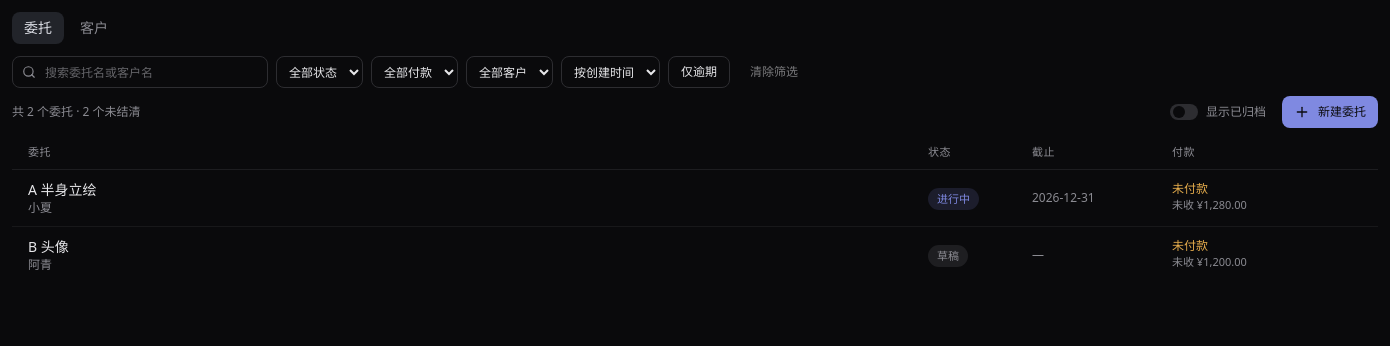
Test: 委托筛选与计数 › 客户筛选包含归档范围内被引用的归档客户，并带标注
The width and height of the screenshot is (1390, 346).
Expected: the text "A 半身立绘" is shown, [28,180,97,200]
Click the switch.
click(1184, 112)  # box [1170,104,1198,120]
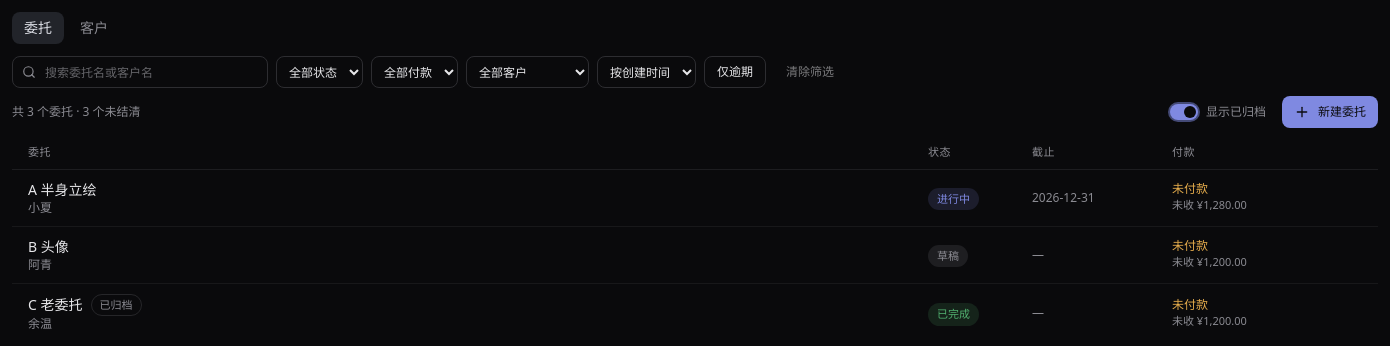
Expected: the text "C 老委托" is shown, [28,295,82,315]
Select "余温（已归档）" in the dropdown named "客户筛选" at (528,72), box [466,56,589,88]
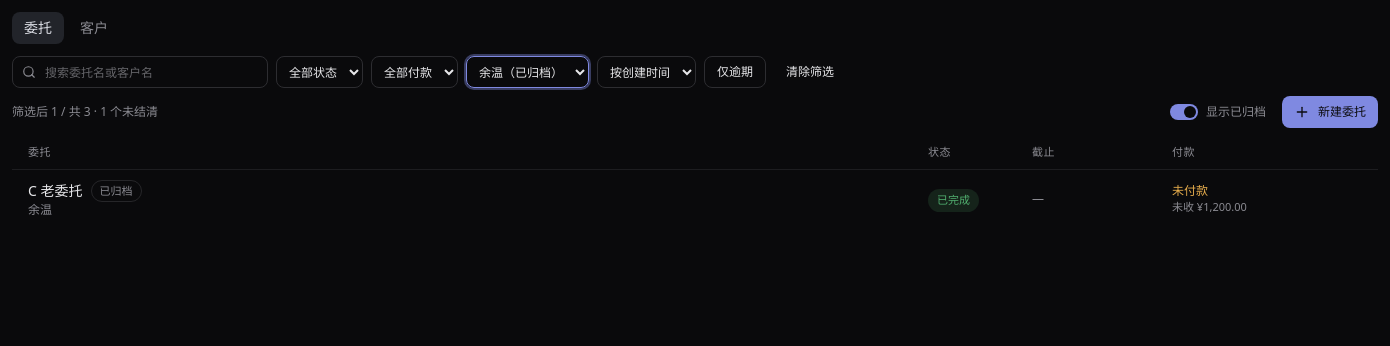
Expected: the text "C 老委托" is shown, [28,181,82,201]
Expected: the button "A 半身立绘" is gone
Expected: the text with test id "commissions-summary" shows "筛选后 1 / 共 3", [12,103,158,120]
